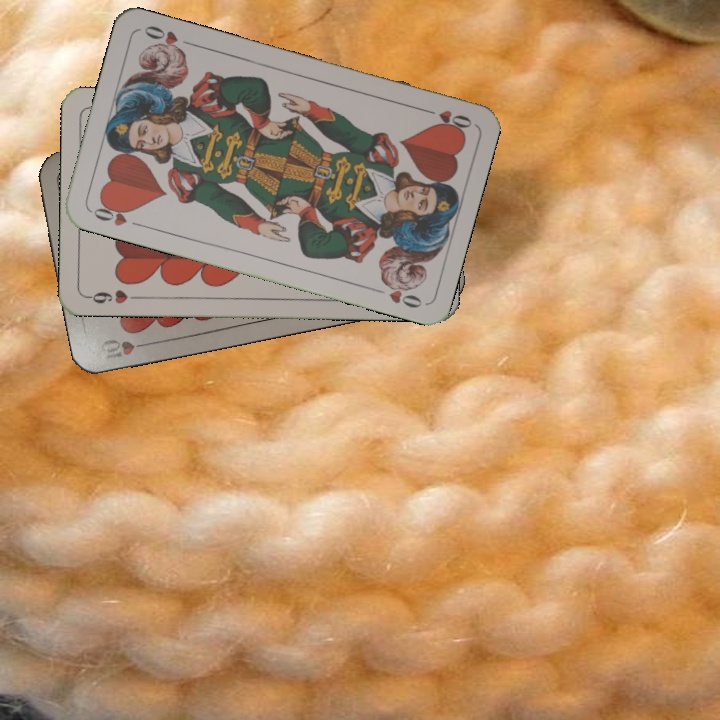H10: (96, 335, 155, 364)
H9: (83, 286, 142, 307)
HO: (87, 198, 145, 230), (417, 104, 475, 134)
